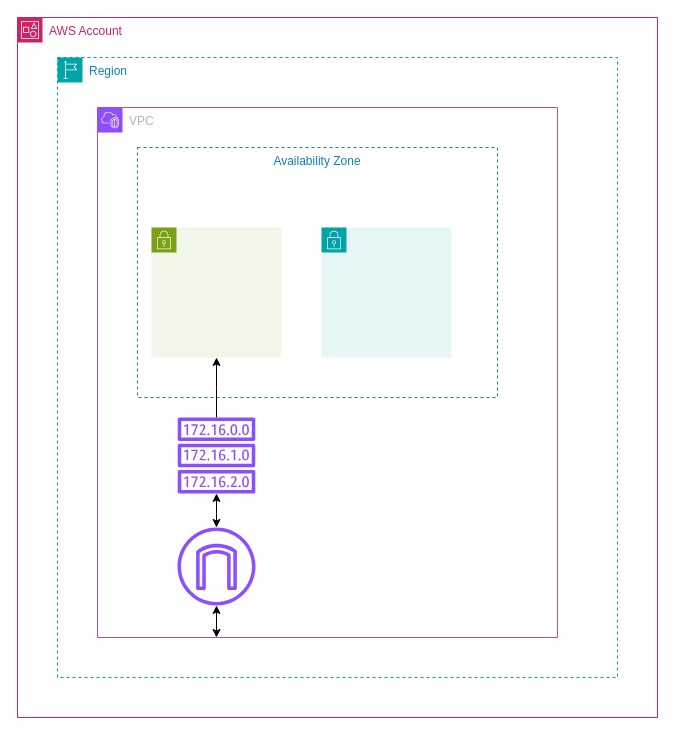
Image size: 675x735. Some labels were removed from this diagram. Each missing label, with the centre of its shape:
"Private subnet" belongs at point (386, 292).
"Public subnet" belongs at point (216, 292).
